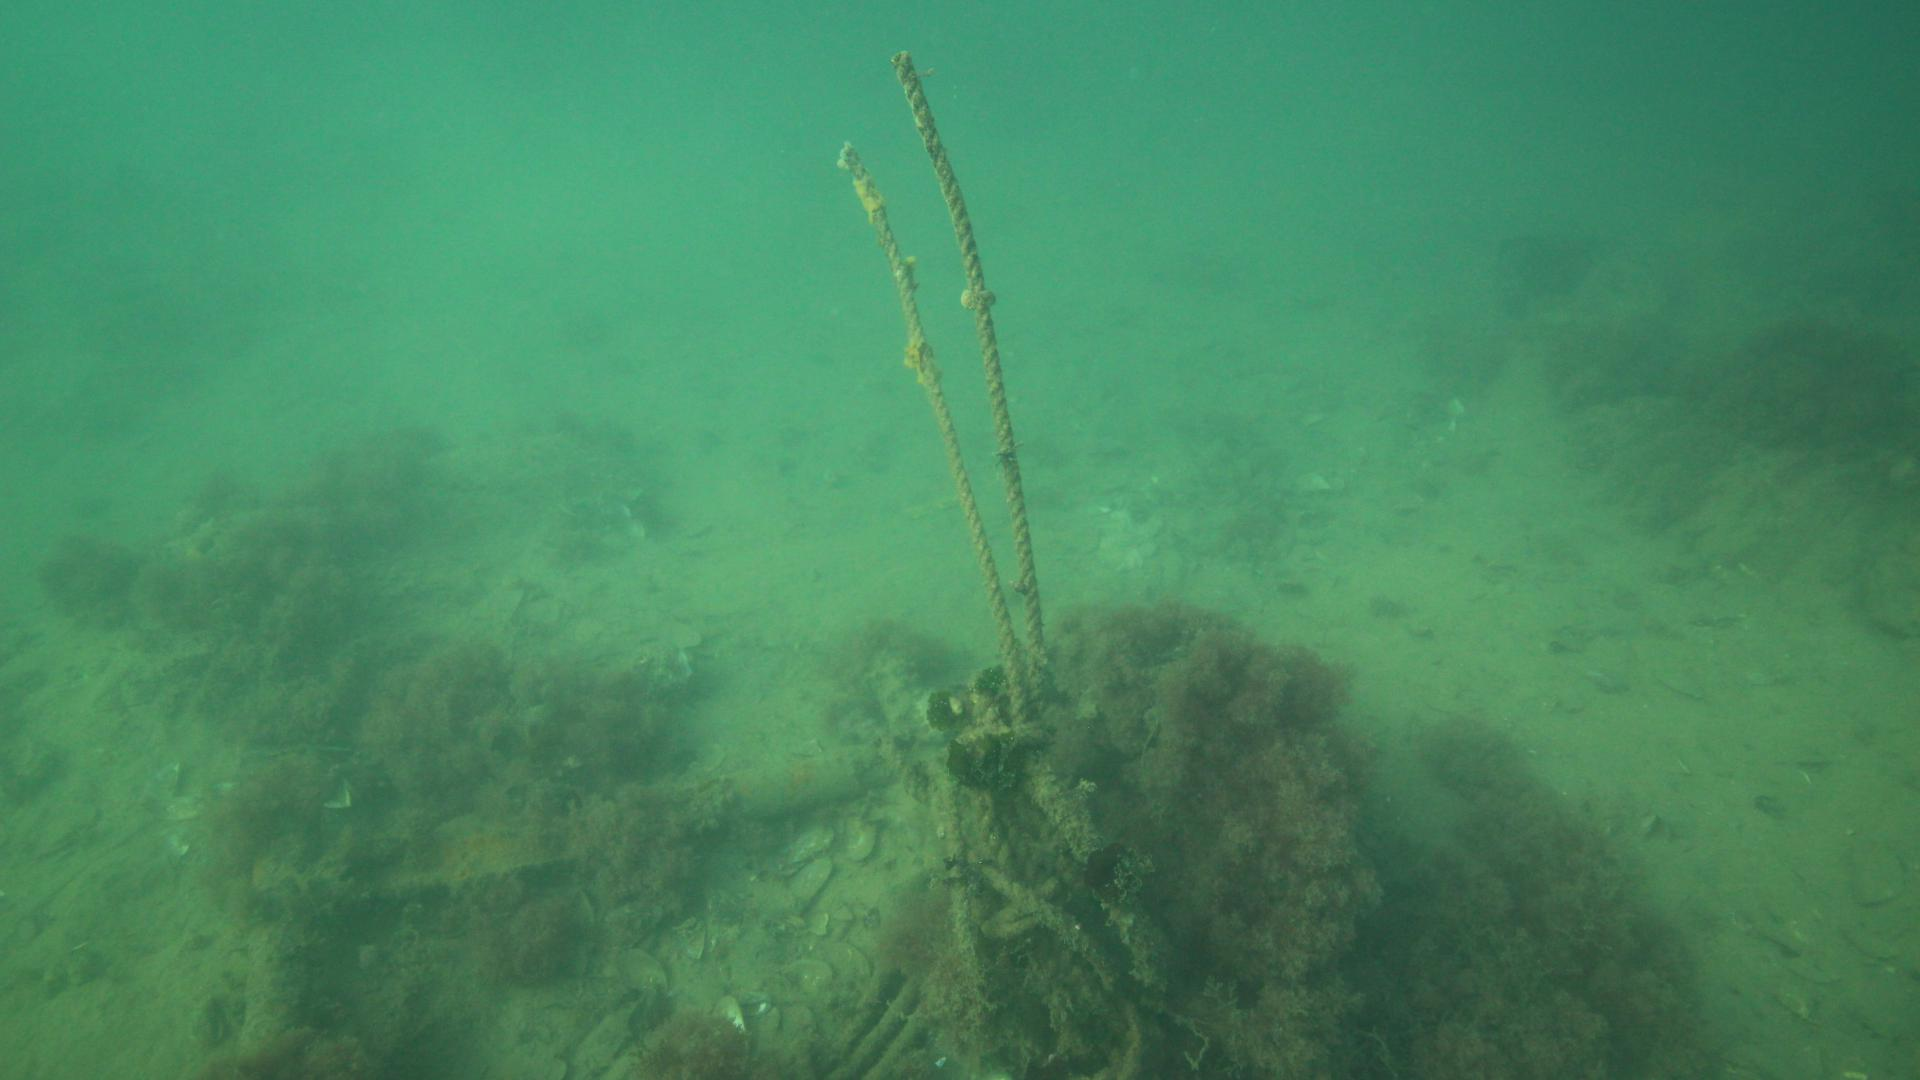bundle of ropes: (872, 695, 1208, 1077)
rope: (887, 44, 1048, 708), (839, 140, 1022, 705)
